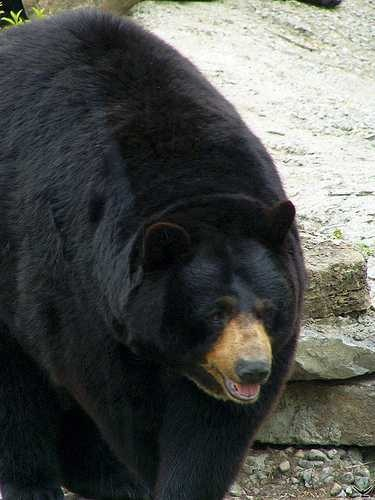bear: (171, 279, 299, 407), (108, 191, 236, 319), (199, 177, 327, 305)
